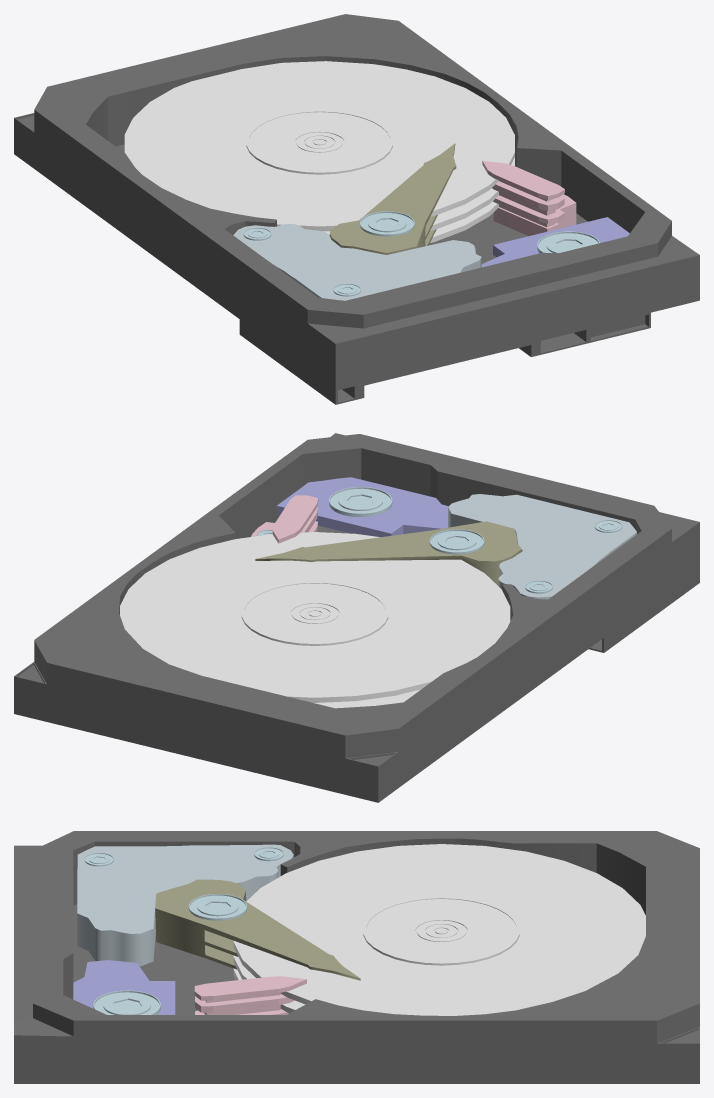
File: HDD.fbx
3 views of the same model, one above another, from view 1: azimuth 30°, elevation 25°; view 2: azimuth 150°, elevation 25°; view 3: azimuth 270°, elevation 25° (orthographic). The views are drawn at different scales.
Visible parts, largest first — view 1: Schijven; view 2: Schijven; view 3: Schijven.
Boxes of the visible parts, x1,y1,x2,y2 form: Schijven: (14,14,699,404); Schijven: (14,433,699,802); Schijven: (14,831,699,1083).
Bounding box in the file's own units: 10.71 × 2.14 × 16.37.
